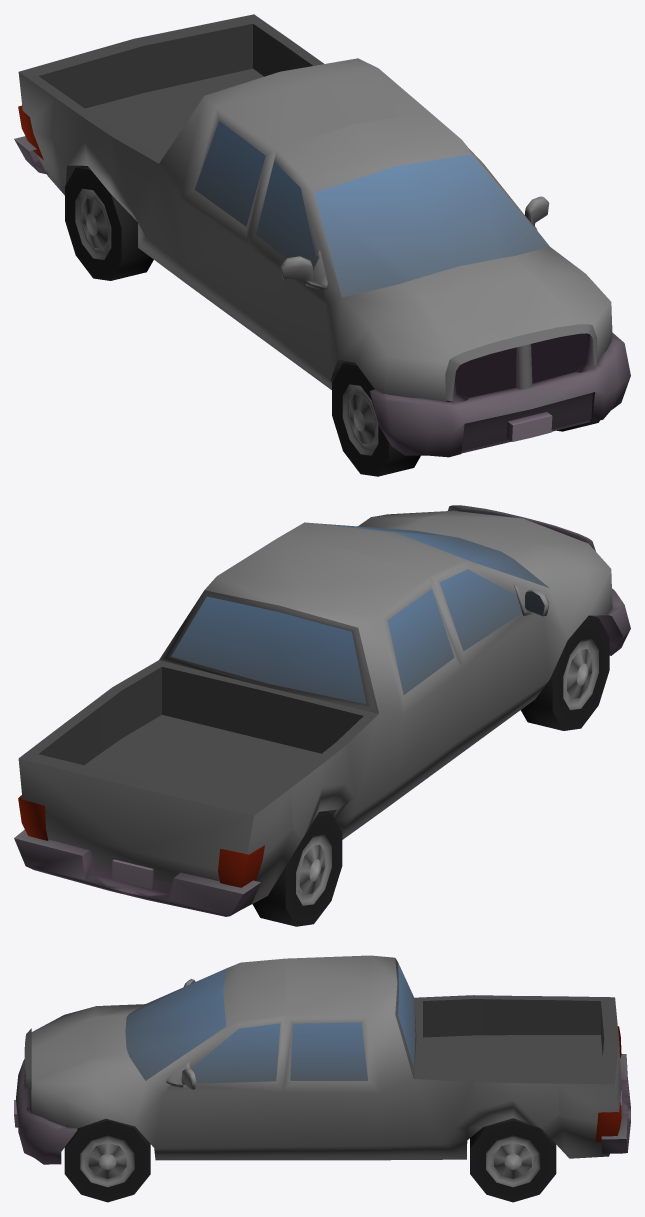
File: vehicles-trucks-vans-pickup-truck_v2.glb
The picture shows the model from 3 angles, top to bottom: view 1: azimuth 30°, elevation 25°; view 2: azimuth 150°, elevation 25°; view 3: azimuth 270°, elevation 25°; orthographic projection. The views are drawn at different scales.
Parts seen in each view (by area): view 1: Pickup Truck_v2.001, Pickup Truck_v2; view 2: Pickup Truck_v2.001, Pickup Truck_v2; view 3: Pickup Truck_v2.001, Pickup Truck_v2.
Part boxes in pixels (box(x1,y1,x2,y2)): Pickup Truck_v2.001: box(14, 14, 630, 476); Pickup Truck_v2: box(75, 121, 549, 455); Pickup Truck_v2.001: box(14, 505, 630, 926); Pickup Truck_v2: box(171, 523, 598, 905); Pickup Truck_v2.001: box(14, 955, 630, 1202); Pickup Truck_v2: box(80, 962, 540, 1187).
Size of the model in its own units: 2.21 by 1.87 by 5.8.
